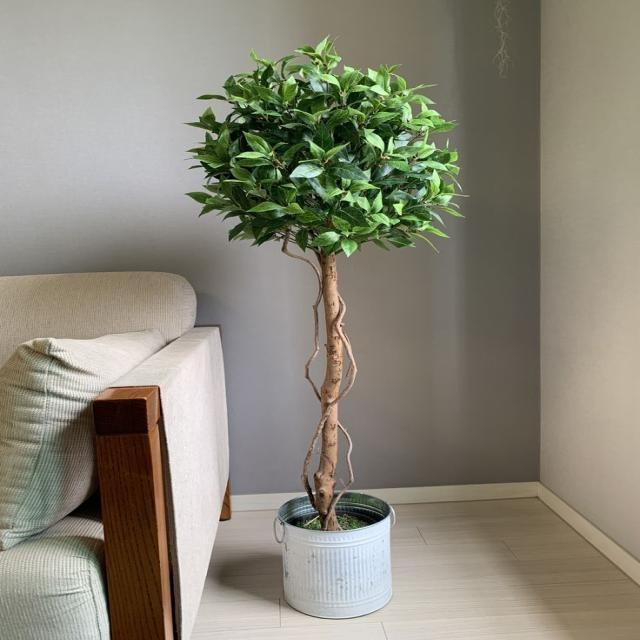obstacle: (0, 269, 231, 638)
